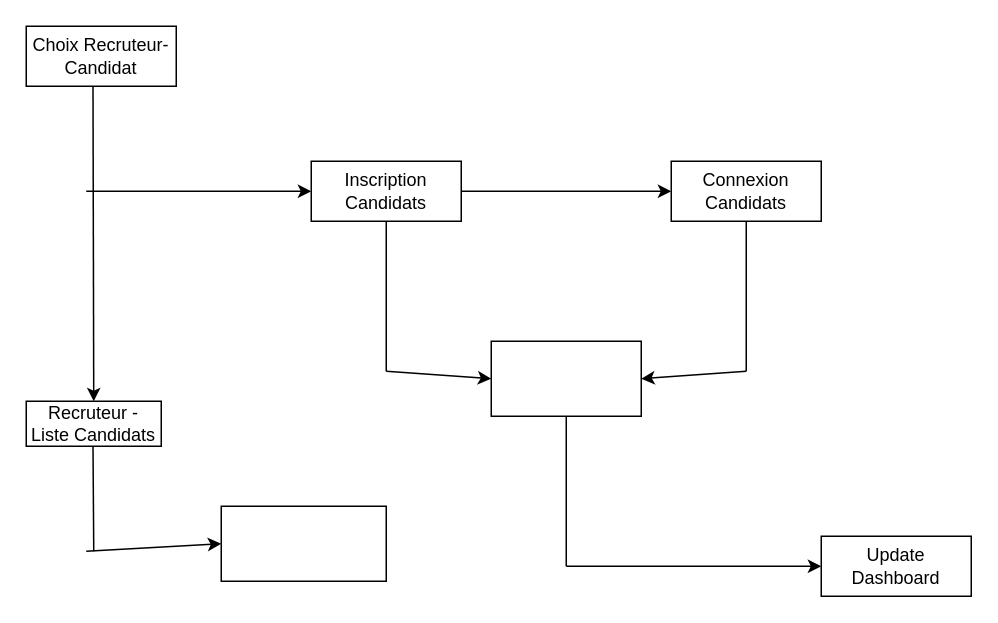
The diagram is 998 pixels wide and 623 high, and some of its shapes have lost their labels. Each missing label, with the box of its shape:
Dashboard - Info Candidats: (490, 340, 641, 416)
Recruteur - info Candidat Sélectionné: (220, 505, 386, 581)
